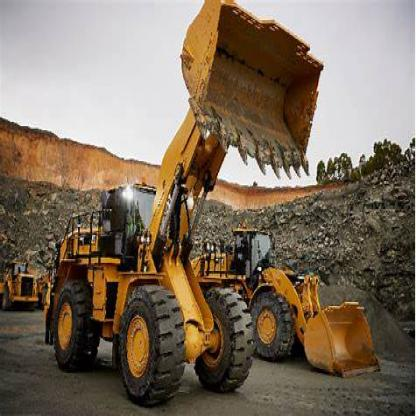bull_dozer/loader/grader: (40, 4, 328, 412), (229, 226, 389, 398), (4, 254, 41, 318)
